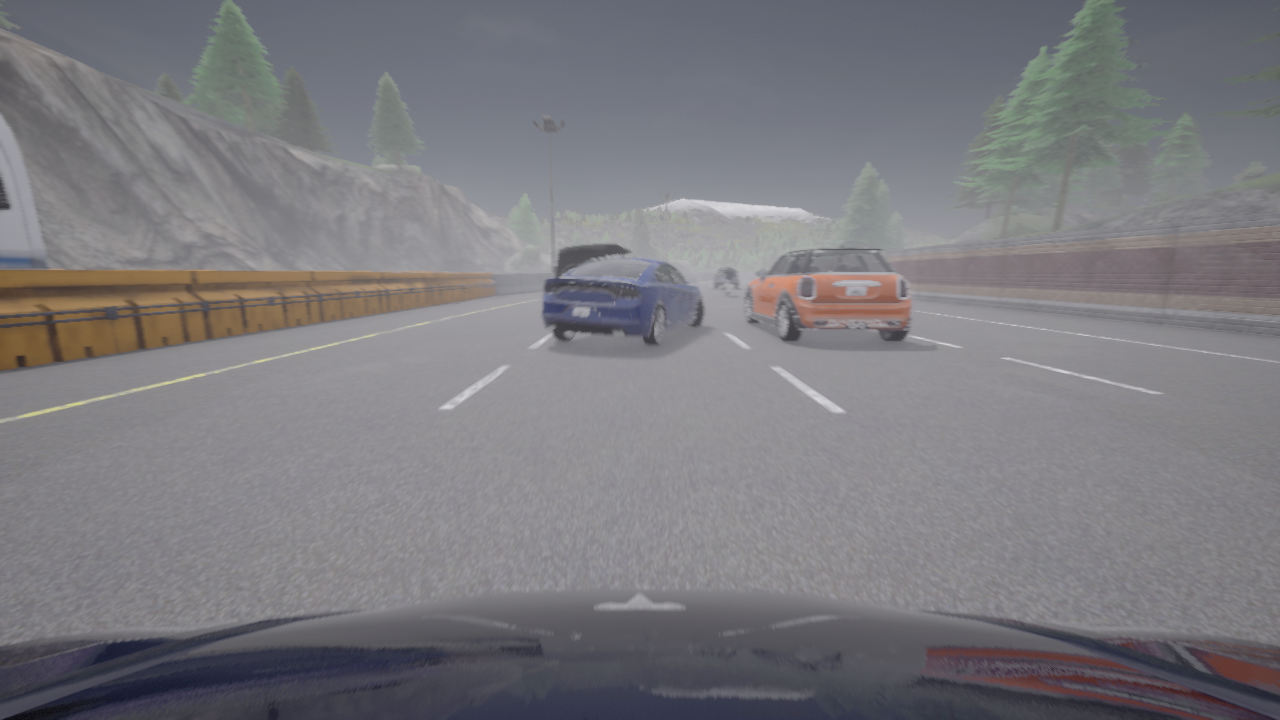cyclist: (0, 588, 1279, 719), (744, 239, 911, 341), (541, 254, 704, 345), (554, 242, 634, 276), (714, 268, 740, 288), (720, 272, 735, 296)
